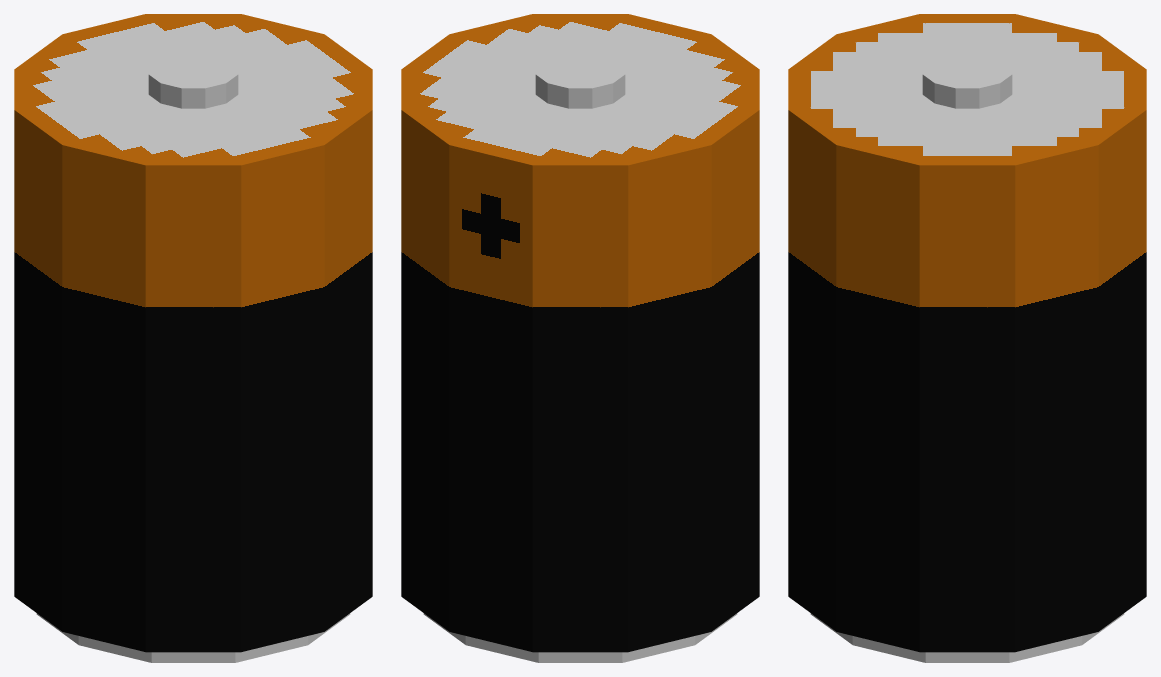
File: batteryTest.gltf
3 views of the same model, side by side, from view 1: azimuth 30°, elevation 25°; view 2: azimuth 150°, elevation 25°; view 3: azimuth 270°, elevation 25° (orthographic).
Parts seen in each view (by area): view 1: cylinder (×3); view 2: cylinder (×3); view 3: cylinder (×3).
Part boxes in pixels (x1,y1,x2,y2): cylinder (×3): (14,14,372,662); cylinder (×3): (401,14,759,662); cylinder (×3): (788,14,1146,662).
Size of the model in its own units: 1 by 1.62 by 1.
3 materials, 3 textured.
